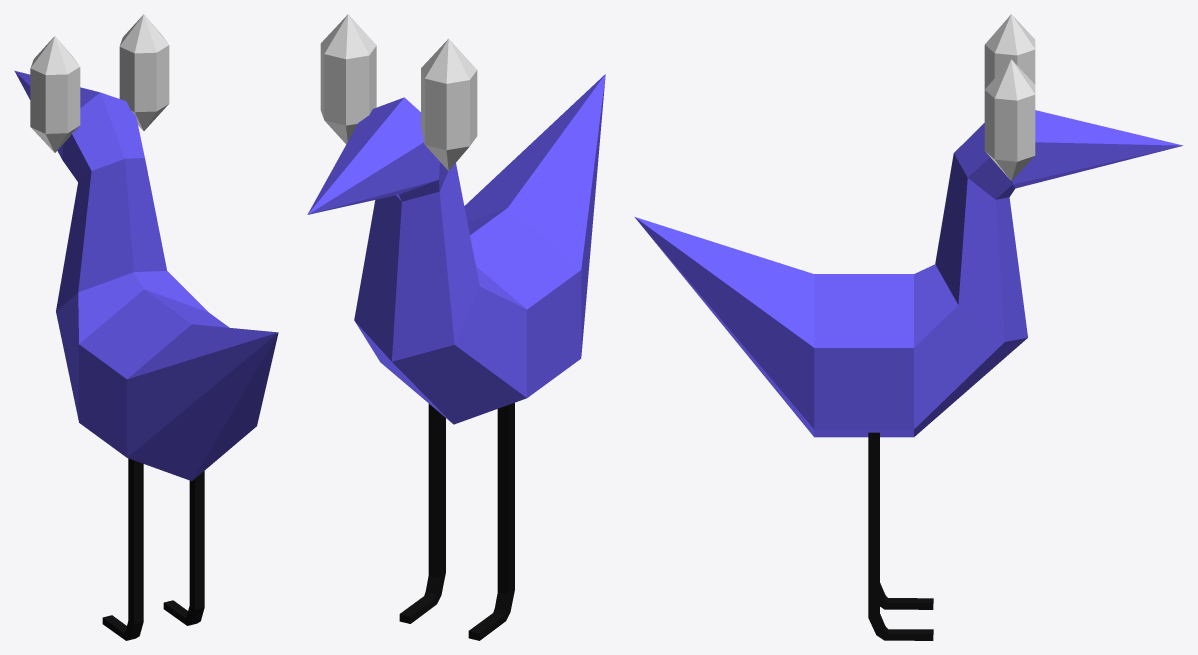
Rendered from Mpc_2.fbx.
3 renders of one model, left to right at view 1: azimuth 30°, elevation 25°; view 2: azimuth 150°, elevation 25°; view 3: azimuth 270°, elevation 25°, orthographic. The views are drawn at different scales.
Parts seen in each view (by area): view 1: Cone, Sphere, Cube.001; view 2: Cone, Sphere, Cube.001; view 3: Cone, Sphere, Cube.001.
Boxes of the visible parts, bbox=[...] form: Cone: bbox=[14, 70, 278, 480]; Sphere: bbox=[30, 14, 169, 152]; Cube.001: bbox=[102, 458, 204, 640]; Cone: bbox=[307, 74, 605, 424]; Sphere: bbox=[320, 14, 477, 170]; Cube.001: bbox=[399, 402, 514, 640]; Cone: bbox=[634, 110, 1182, 437]; Sphere: bbox=[984, 14, 1035, 180]; Cube.001: bbox=[868, 432, 933, 640].
Size of the model in its own units: 178 by 718 by 610.
